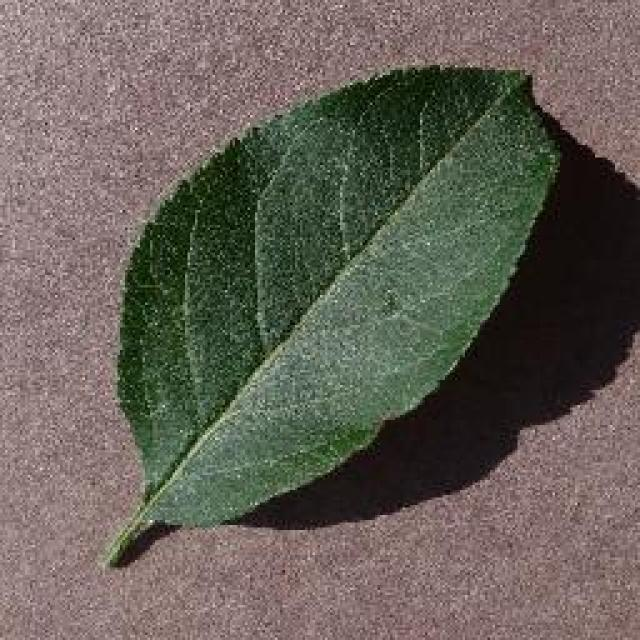Apple___healthy: (85, 50, 565, 585)
